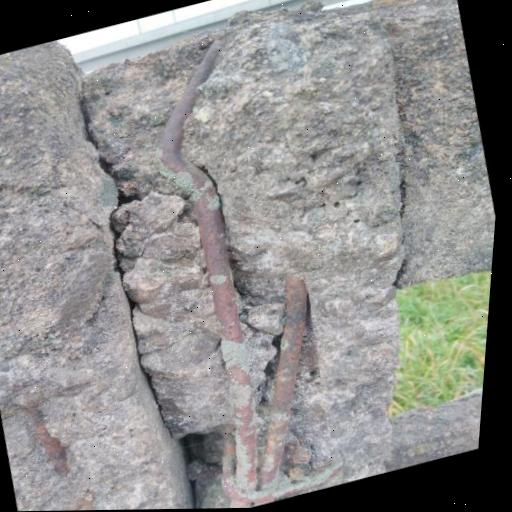exposed_rebar: (157, 44, 342, 504), (26, 407, 70, 477)
